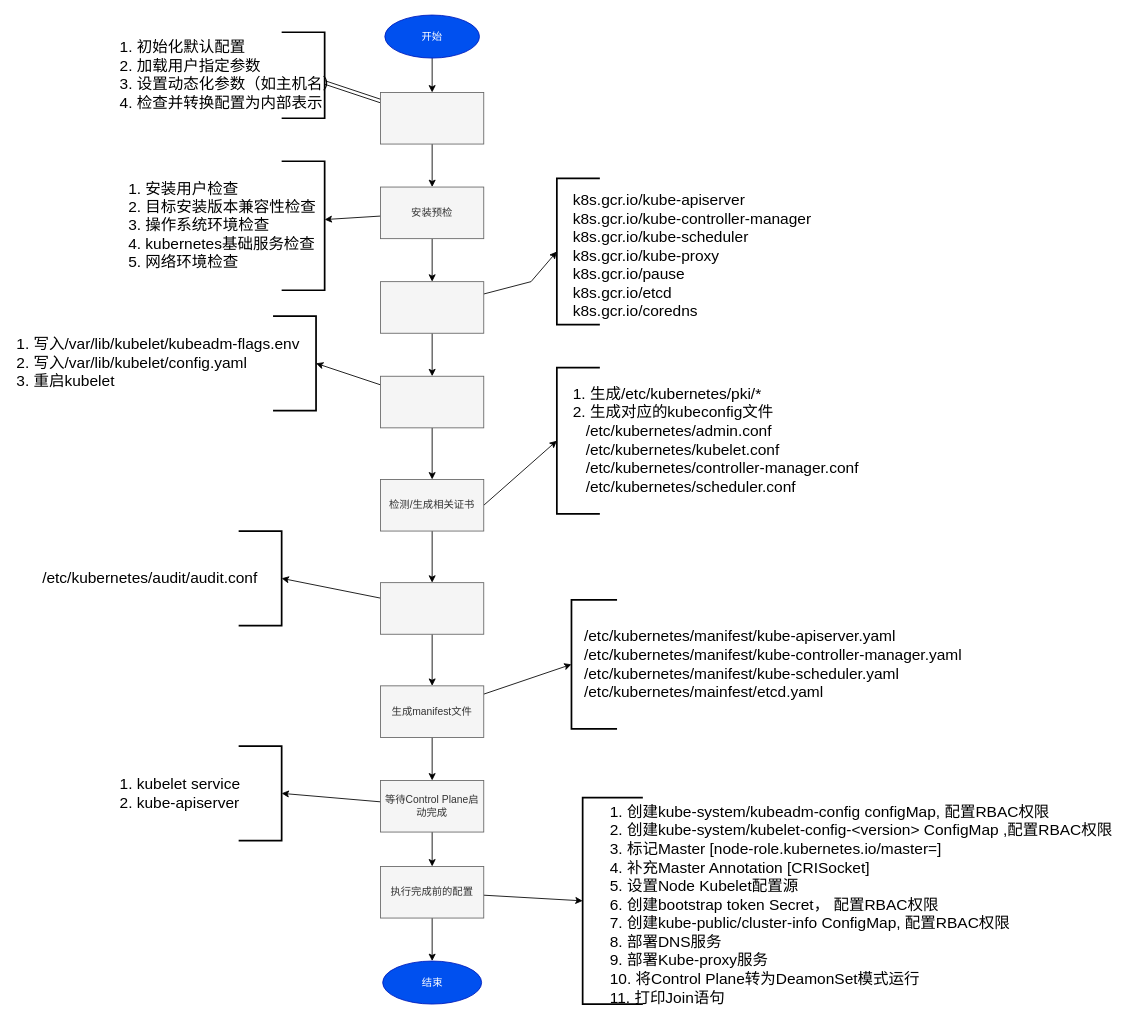
Some shapes in this 1139 by 1028 pixel diagram are drawn without their labels. Here are the shapes that lost their labels. From the top down, the centre of each, then its label:
point (432, 118): 配置初始化
point (432, 307): 镜像检测和拉取
point (432, 401): 配置本地kubelet服务
point (432, 608): 检测/生成audit策略文件（如果启用audit特性）
